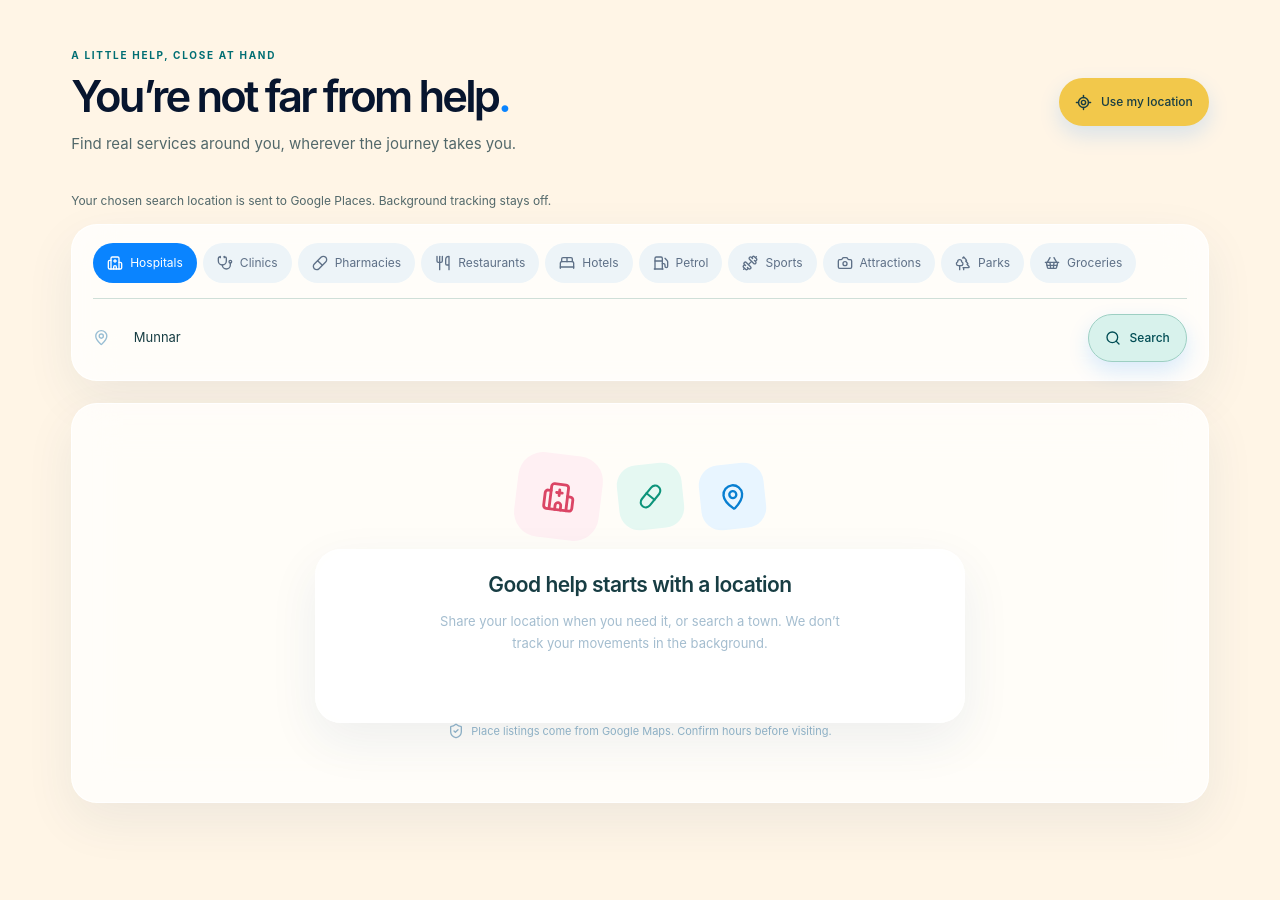
Test: permission and honest fallback interactions › missing nearby provider never displays a fake hospital
The width and height of the screenshot is (1280, 900).
Click the button "Search".
click(1137, 338)  # box [1088,314,1187,362]
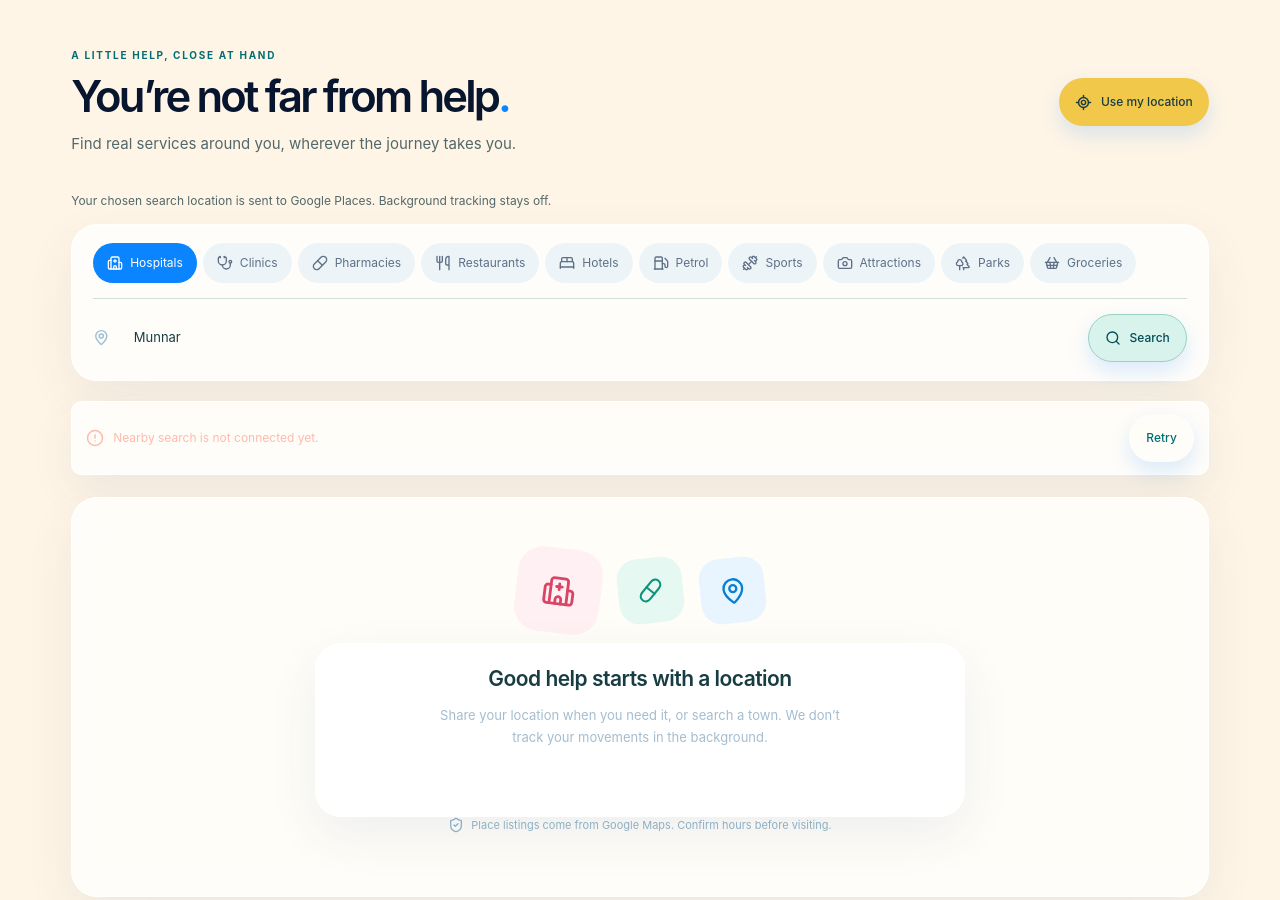
Expected: the message shows "not connected", [113,430,319,445]
